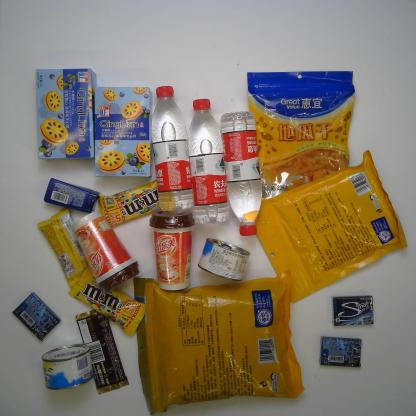Canned Food: (41, 344, 94, 391), (198, 238, 250, 281)
Chocolate: (37, 207, 108, 287), (69, 266, 146, 336), (75, 303, 129, 395), (98, 175, 176, 231)
Dessert: (35, 68, 99, 160), (94, 86, 153, 178)
Dried Food: (132, 269, 304, 415)
Dried Fruit: (249, 150, 407, 301), (247, 71, 359, 219)
Drink: (152, 86, 194, 212), (188, 99, 230, 224), (220, 111, 262, 236)
Gum: (12, 292, 60, 341), (319, 335, 362, 368), (331, 295, 374, 327)
Instant Drink: (72, 210, 140, 293), (150, 207, 195, 290)
Personal Hygiene: (44, 178, 100, 214)
